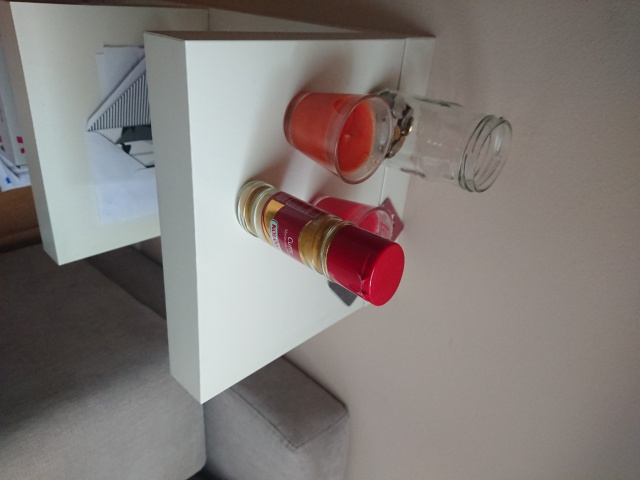Kotanyi Curry Spices Mix 70g: (232, 177, 408, 309)
